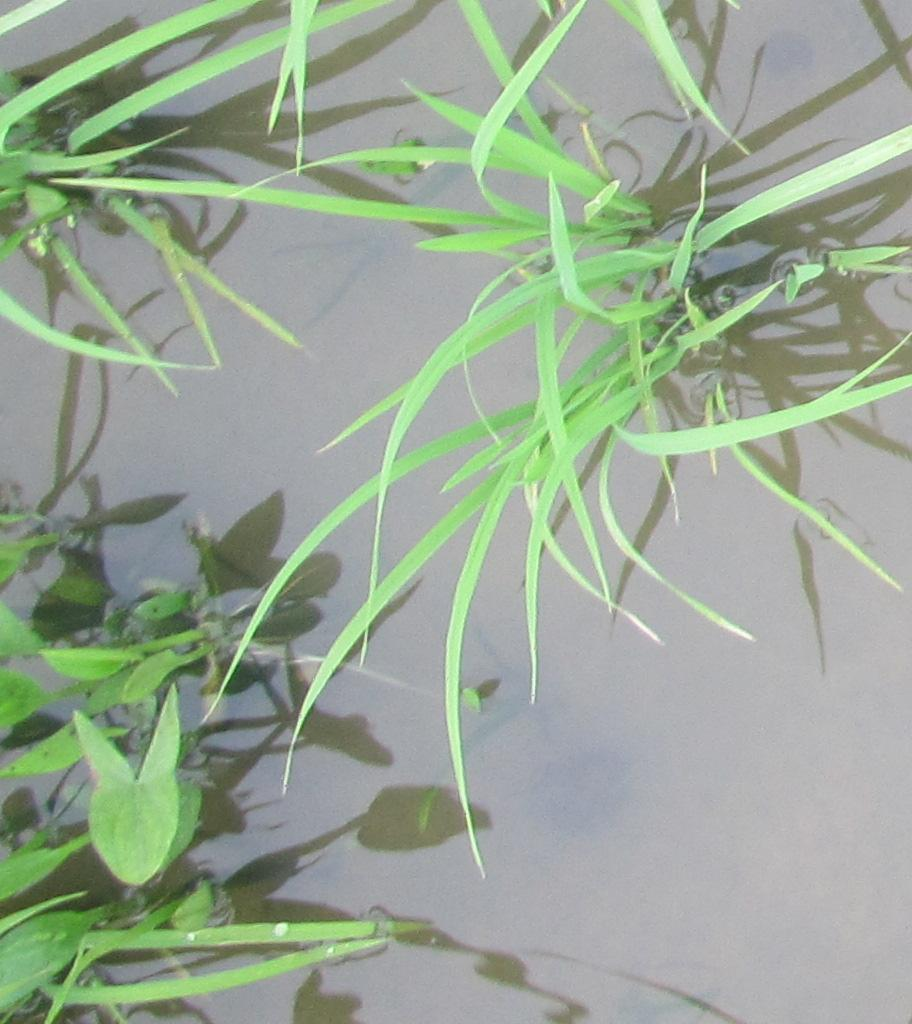Weed: (61, 703, 192, 892)
